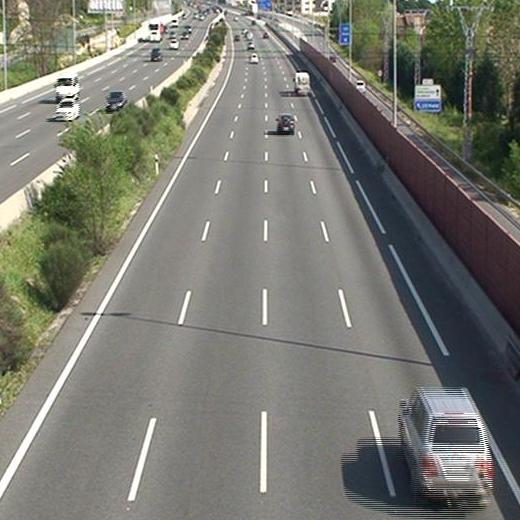car: (401, 388, 494, 504), (277, 114, 295, 134), (250, 54, 258, 64)
van: (294, 73, 309, 95)
